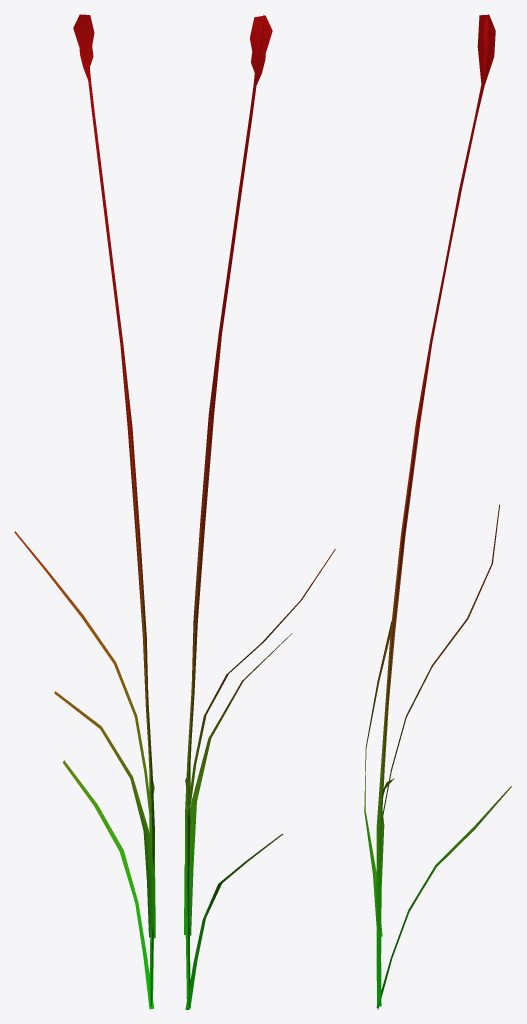
File: Tundra Grass_LOD1_Var36_wk2oaeyqx.fbx
3 views of the same model, side by side, from view 1: azimuth 30°, elevation 25°; view 2: azimuth 210°, elevation 25°; view 3: azimuth 270°, elevation 25° (orthographic). The views are drawn at different scales.
Parts seen in each view (by area): view 1: _ek2a_Var36_LOD1; view 2: _ek2a_Var36_LOD1; view 3: _ek2a_Var36_LOD1.
Boxes of the visible parts, <box> form: _ek2a_Var36_LOD1: <box>14,14,155,1009</box>; _ek2a_Var36_LOD1: <box>184,14,335,1009</box>; _ek2a_Var36_LOD1: <box>364,14,511,1009</box>.
Size of the model in its own units: 4.42 by 41.12 by 5.6.
